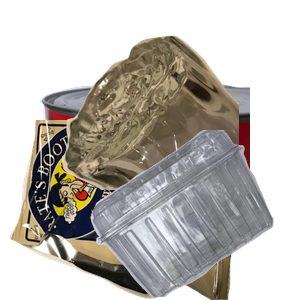glass: (60, 33, 300, 213)
metal: (37, 81, 277, 261)
plastic: (88, 130, 300, 300)
trash: (10, 120, 235, 300)
